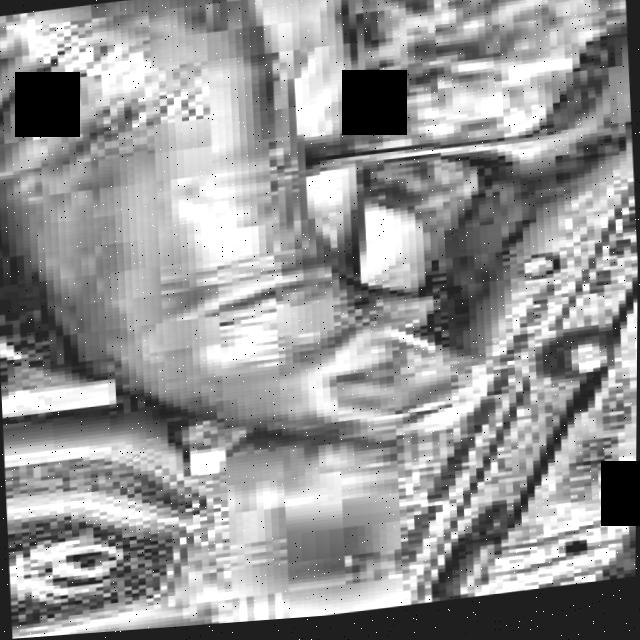Ruger: (0, 20, 640, 640)
